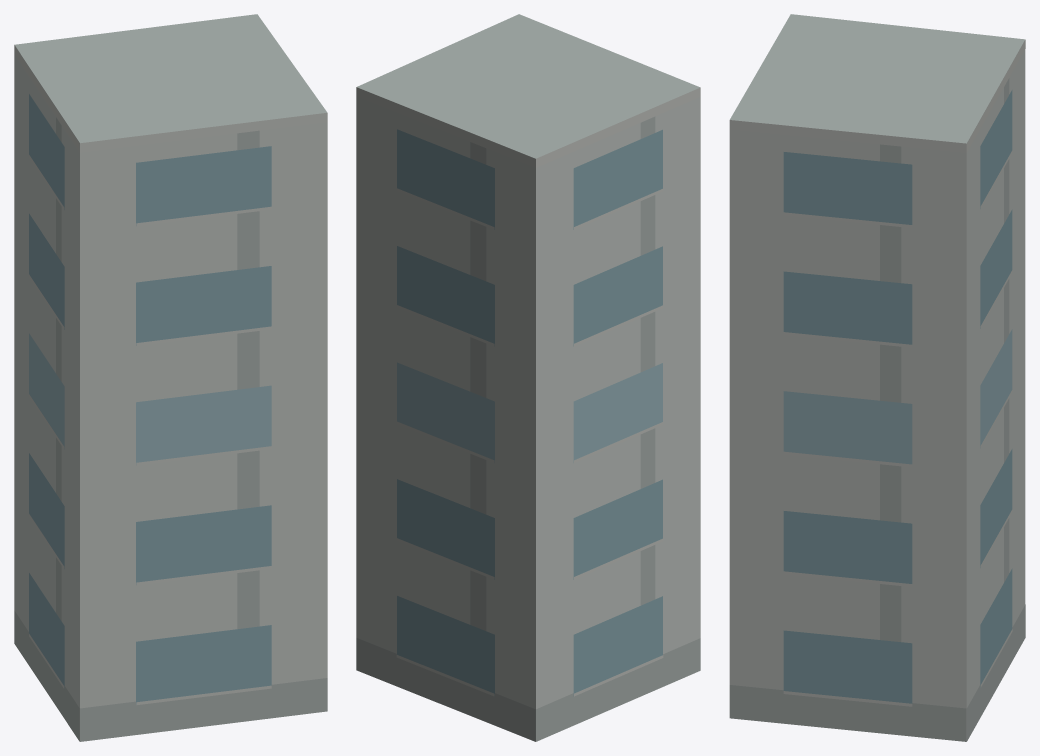
File: survey-upis-32737161.glb
3 views of the same model, side by side, from view 1: azimuth 30°, elevation 25°; view 2: azimuth 150°, elevation 25°; view 3: azimuth 270°, elevation 25° (orthographic). The views are drawn at different scales.
Parts seen in each view (by area): view 1: survey-upis-32737161.tmp; view 2: survey-upis-32737161.tmp; view 3: survey-upis-32737161.tmp.
Boxes of the visible parts, left/top/right/bottom form: survey-upis-32737161.tmp: left=14, top=14, right=327, bottom=741; survey-upis-32737161.tmp: left=356, top=14, right=700, bottom=741; survey-upis-32737161.tmp: left=729, top=14, right=1025, bottom=741.
Bounding box in the file's own units: 7.09 × 15.25 × 6.84.
